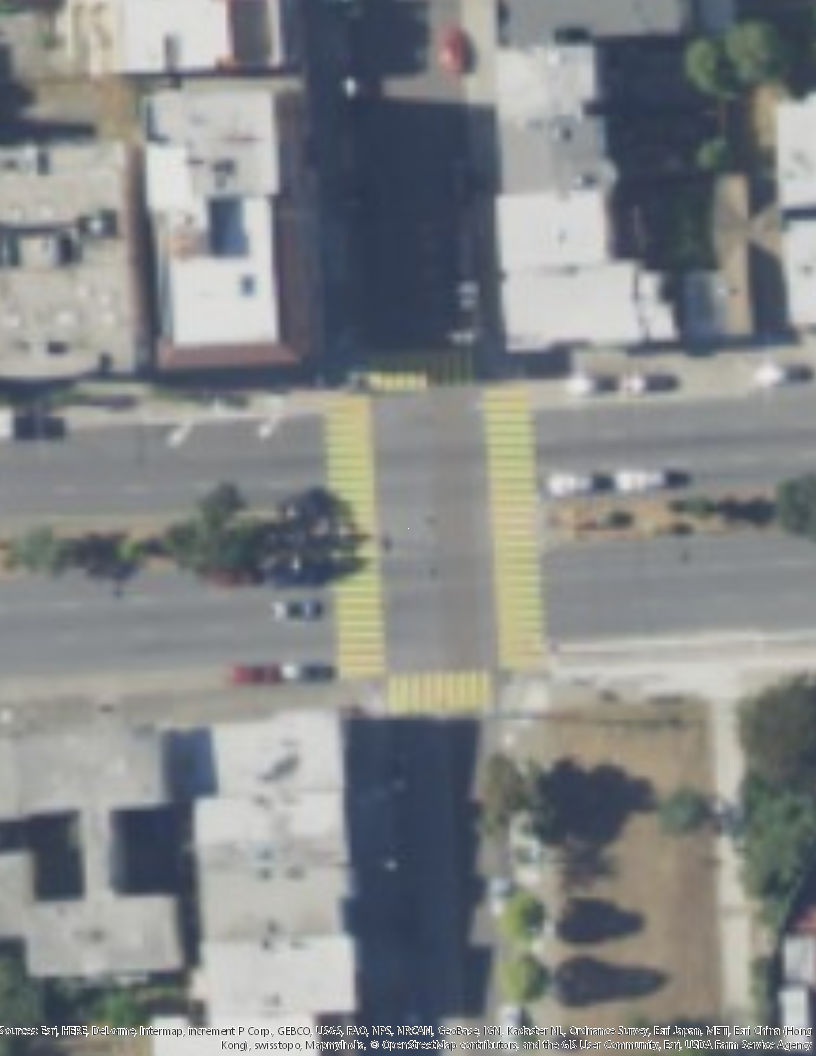zebracross: (478, 393, 548, 670), (321, 398, 388, 676), (384, 669, 489, 717), (359, 352, 477, 394)
